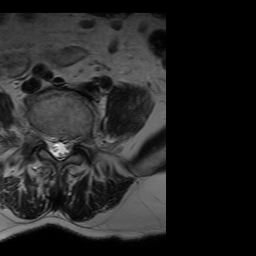CCS_normal: (56, 129, 64, 167)
LFS_normal: (72, 127, 81, 152)
LLS_normal: (64, 130, 72, 161)
RFS_normal: (38, 122, 47, 148)
RLS_normal: (47, 128, 56, 159)
